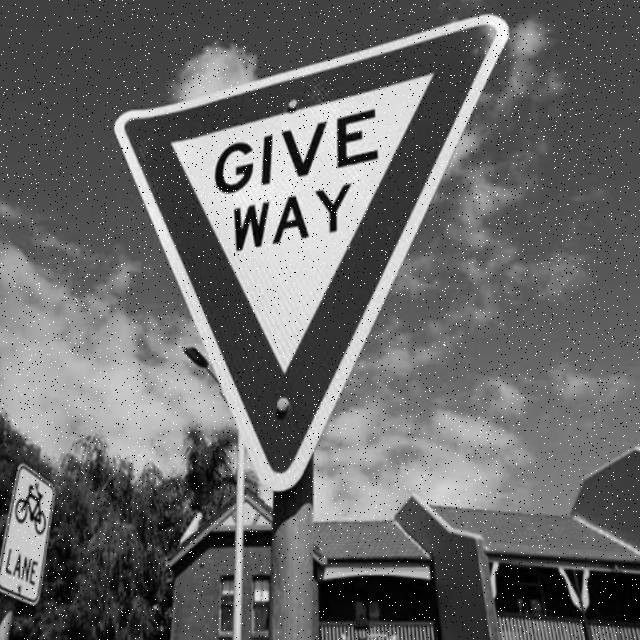giveway: (117, 13, 510, 487)
